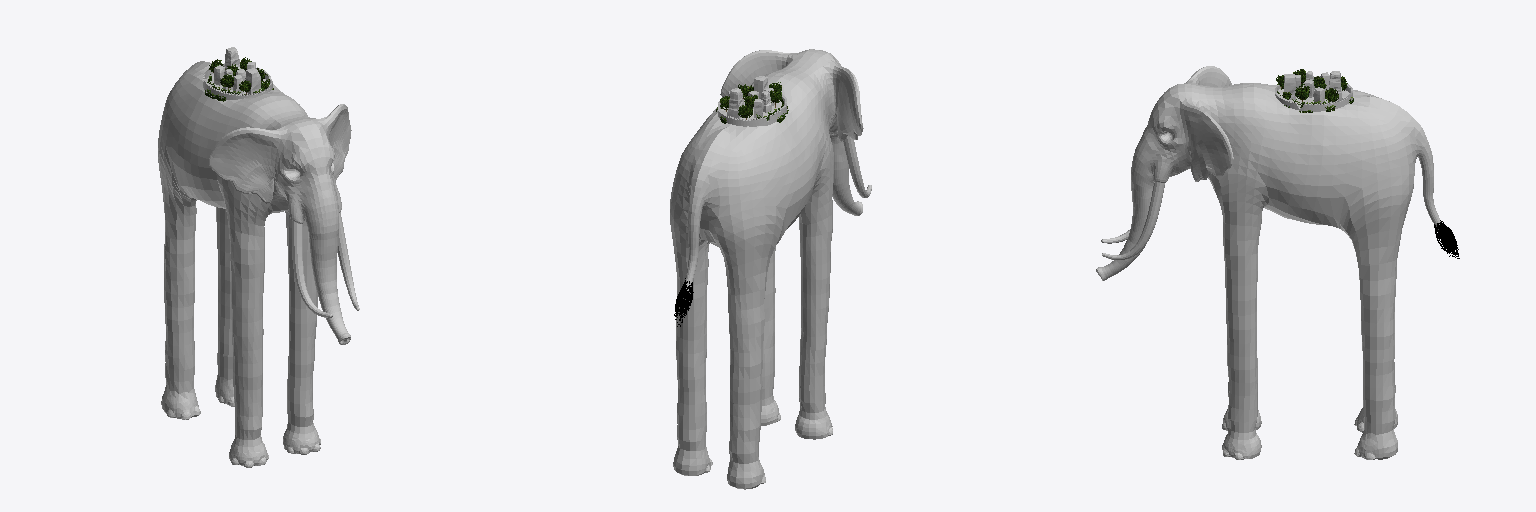
3 views of the same model, side by side, from view 1: azimuth 30°, elevation 25°; view 2: azimuth 150°, elevation 25°; view 3: azimuth 270°, elevation 25° (orthographic).
Parts seen in each view (by area): view 1: S_02; view 2: S_02; view 3: S_02.
Boxes of the visible parts, <box> form: S_02: <box>158,47,359,467</box>; S_02: <box>670,49,871,489</box>; S_02: <box>1096,66,1459,459</box>.
Bounding box in the file's own units: 10.43 × 25.94 × 23.31.
Materials: 4 (2 with a texture image).